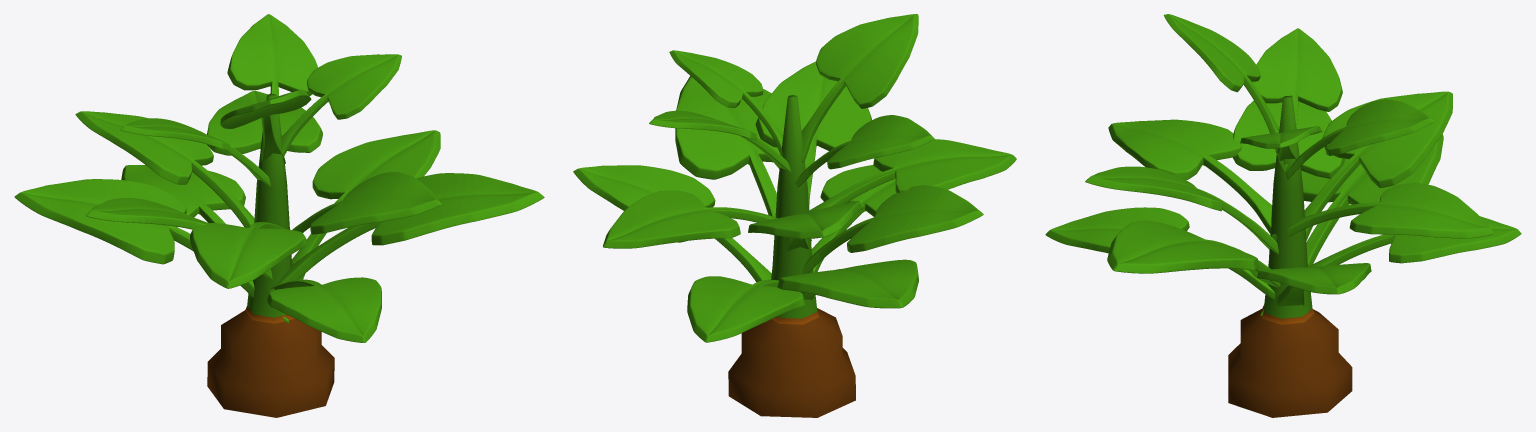
The model's file is plant4.fbx.
3 views of the same model, side by side, from view 1: azimuth 30°, elevation 25°; view 2: azimuth 150°, elevation 25°; view 3: azimuth 270°, elevation 25° (orthographic).
Parts seen in each view (by area): view 1: Circle, Cube.008, Cube.009, Cube, Cube.002, Cube.007, Cube.004, Cube.010, Cube.001, Cube.012, Cube.003, Cube.005 (+3 smaller); view 2: Circle, Cube.013, Cube.009, Cube.003, Cube.006, Cube.002, Cube.005, Cube.001, Cube.008, Cube.007, Cube.011, Cube.012 (+3 smaller); view 3: Circle, Cube.002, Cube.003, Cube.004, Cube.009, Cube.011, Cube.006, Cube.010, Cube.013, Cube.005, Cube, Cube.001 (+3 smaller).
Boxes of the visible parts, x1,y1,x2,y2 form: Circle: [207, 94, 334, 417]; Cube.008: [14, 179, 288, 322]; Cube.009: [267, 173, 544, 303]; Cube: [267, 277, 381, 342]; Cube.002: [190, 222, 307, 288]; Cube.007: [292, 130, 440, 279]; Cube.004: [75, 111, 254, 227]; Cube.010: [227, 14, 317, 96]; Cube.001: [292, 172, 441, 234]; Cube.012: [281, 54, 401, 158]; Cube.003: [207, 91, 322, 155]; Cube.005: [121, 165, 245, 227]; Circle: [728, 95, 855, 417]; Cube.013: [801, 14, 918, 162]; Cube.009: [675, 76, 780, 217]; Cube.003: [603, 190, 811, 248]; Cube.006: [802, 185, 983, 273]; Cube.002: [809, 139, 1016, 211]; Cube.005: [687, 276, 804, 342]; Cube.001: [755, 61, 871, 208]; Cube.008: [777, 259, 918, 308]; Cube.007: [573, 165, 771, 282]; Cube.011: [795, 115, 934, 187]; Cube.012: [669, 50, 790, 170]; Circle: [1228, 96, 1352, 417]; Cube.002: [1108, 119, 1271, 234]; Cube.003: [1271, 183, 1494, 241]; Cube.004: [1304, 91, 1452, 240]; Cube.009: [1107, 220, 1280, 287]; Cube.011: [1252, 28, 1342, 128]; Cube.006: [1232, 100, 1344, 178]; Cube.010: [1285, 99, 1434, 179]; Cube.013: [1163, 14, 1287, 173]; Cube.005: [1308, 216, 1521, 267]; Cube: [1045, 207, 1275, 299]; Cube.001: [1085, 166, 1278, 254].
Size of the model in its own units: 675 by 589 by 731.
